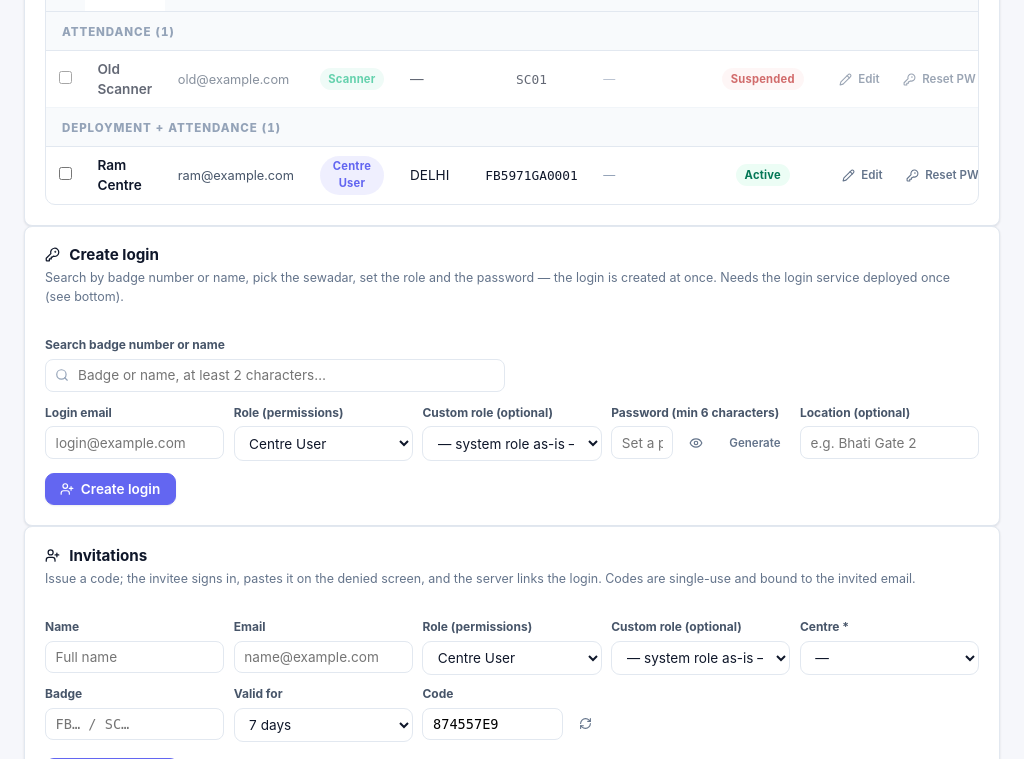
UsersPage — direct provisioning › picks with ArrowDown + Enter from the keyboard
(page scrolled)
Step 1. Type "FB5971" into the dropdown named "Search sewadar by badge number or name" → {"x": 275, "y": 375}, box x1=45 y1=359 x2=505 y2=392
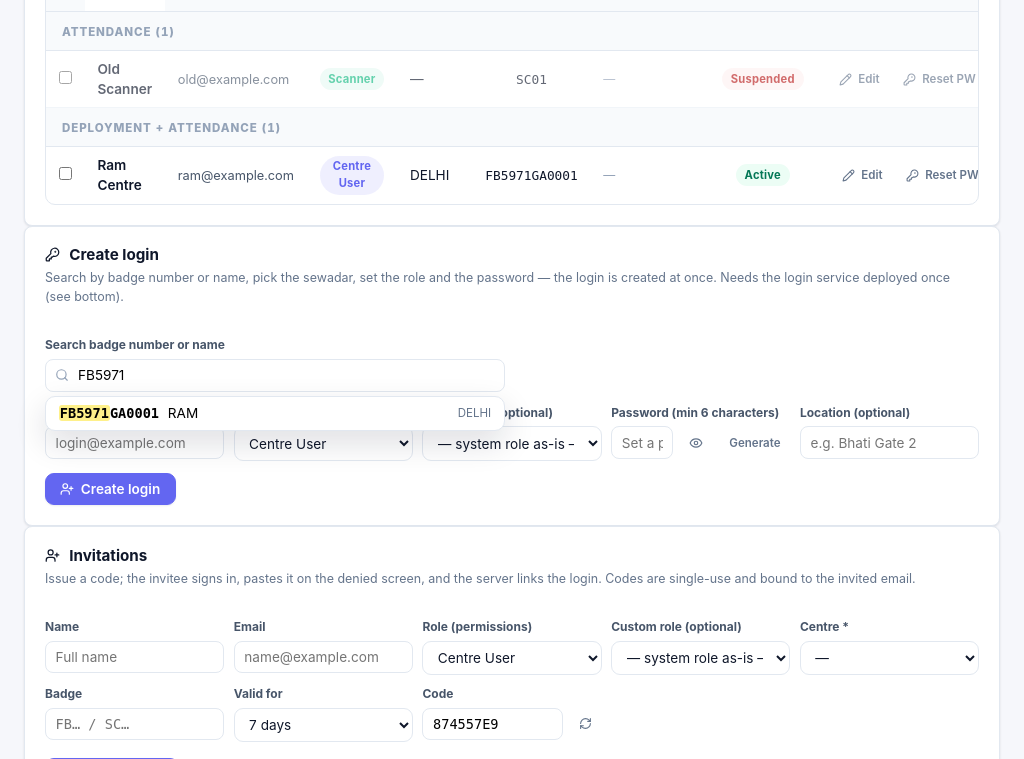
Expected: the option "FB5971GA0001 RAM DELHI" is shown, x1=46 y1=396 x2=504 y2=430
Step 2. Press ArrowDown in the dropdown named "Search sewadar by badge number or name", box x1=45 y1=359 x2=505 y2=392
Step 3. Press Enter in the dropdown named "Search sewadar by badge number or name", box x1=45 y1=359 x2=505 y2=392
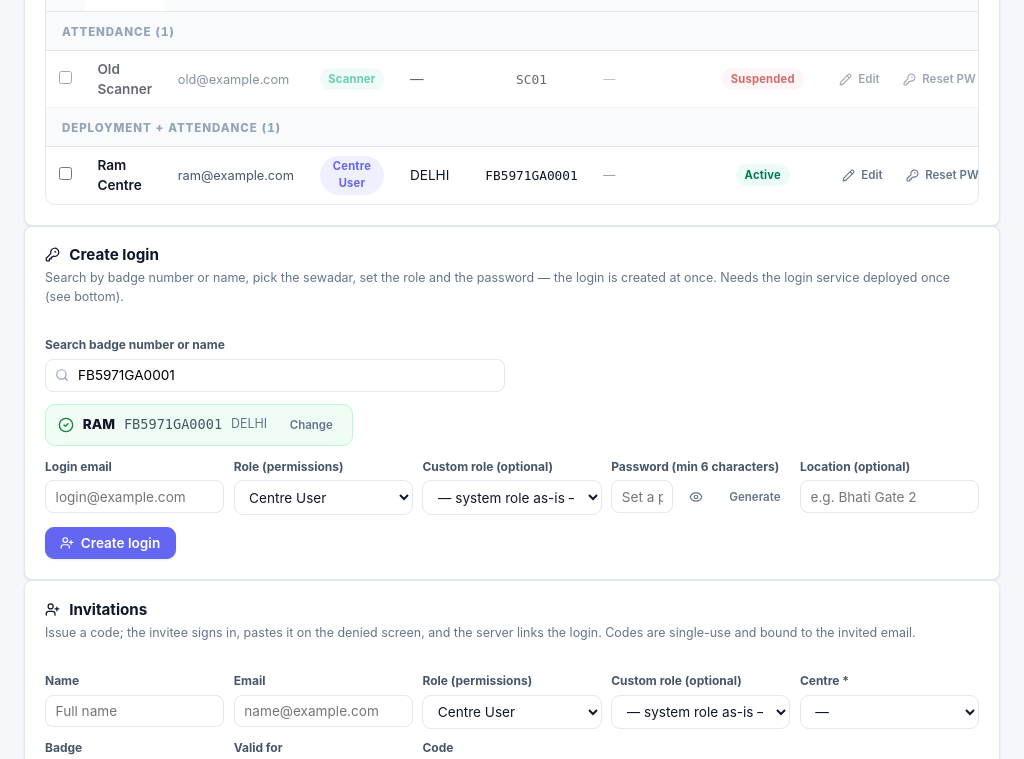
Expected: the list is gone
Expected: the dropdown named "Search sewadar by badge number or name" holds "FB5971GA0001", x1=45 y1=359 x2=505 y2=392
